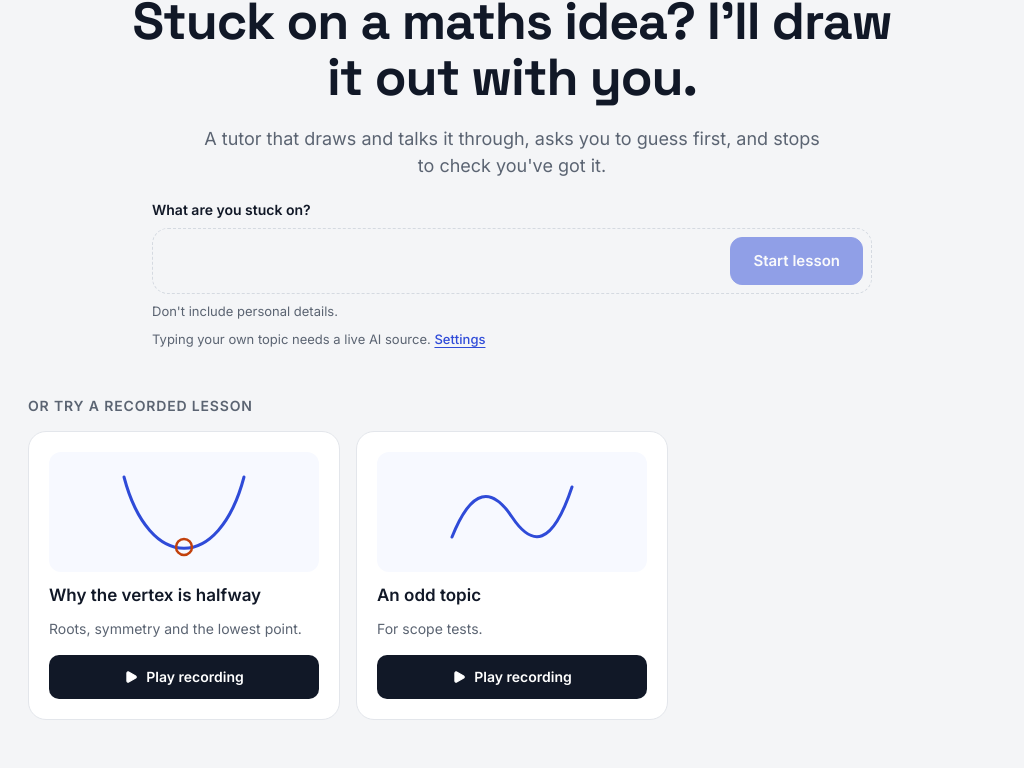
Test: LessonScreen › problem overlay: a missing recorded part explains itself and offers Go home
The image size is (1024, 768).
Later steps or results of the test are not shown.
(page scrolled)
Click the button "Why the vertex is halfway" at (184, 512), box [28, 431, 340, 720]
Wait 350 ms
(page scrolled)
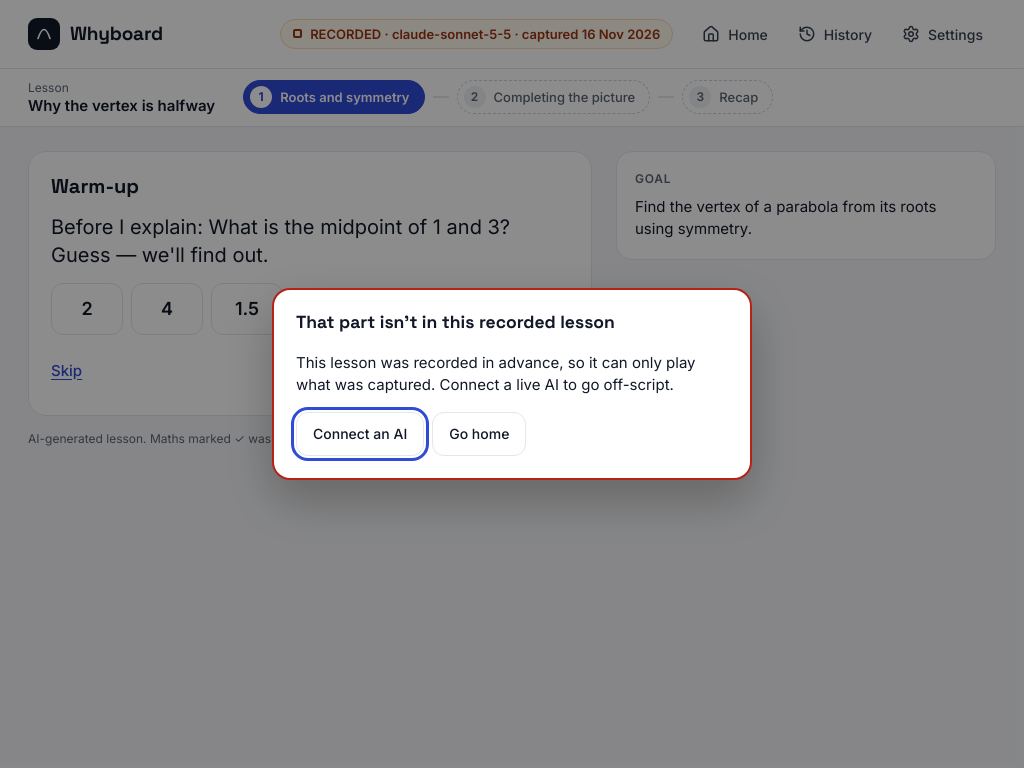
Expected: the element that starts with "Skip to content" is shown, [0, 0, 1023, 446]
Expected: the heading "That part isn't in this recorded lesson" is shown, [296, 311, 615, 333]
Press Escape
Expected: the dialog is shown, [272, 288, 752, 480]
